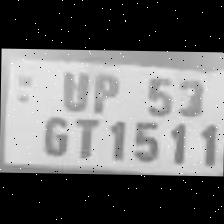1: (188, 118, 220, 166), (162, 116, 191, 164), (99, 116, 128, 160)
3: (172, 72, 205, 118)
5: (125, 113, 162, 164), (139, 72, 176, 116)
G: (36, 110, 72, 156)
P: (88, 67, 122, 115)
T: (68, 113, 102, 158)
U: (55, 64, 90, 110)
